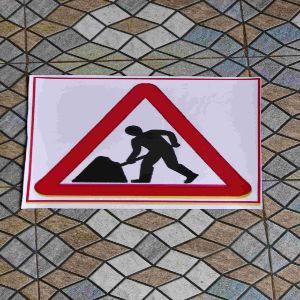men at work: (31, 78, 269, 209)
